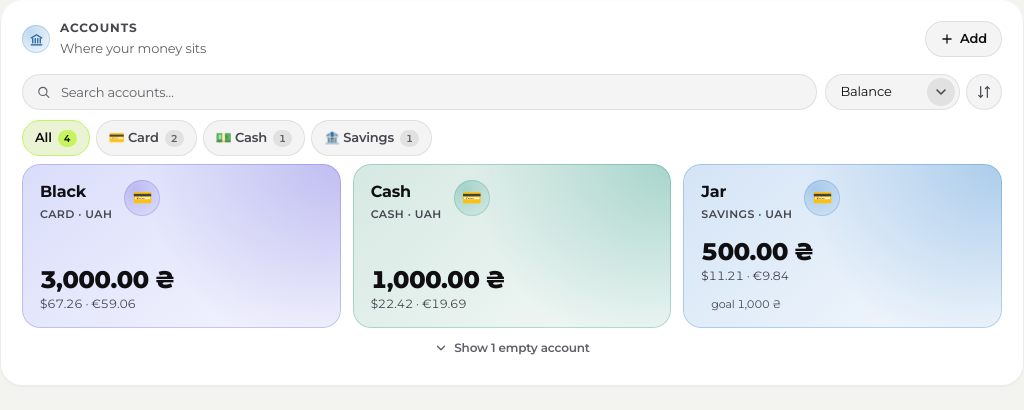
Scenario: AccountsCard › filters by kind and totals what is shown
The width and height of the screenshot is (1024, 410).
Step 1. Click the radio button labelled "💵 Cash 1" → (254, 138), box [203, 120, 305, 156]
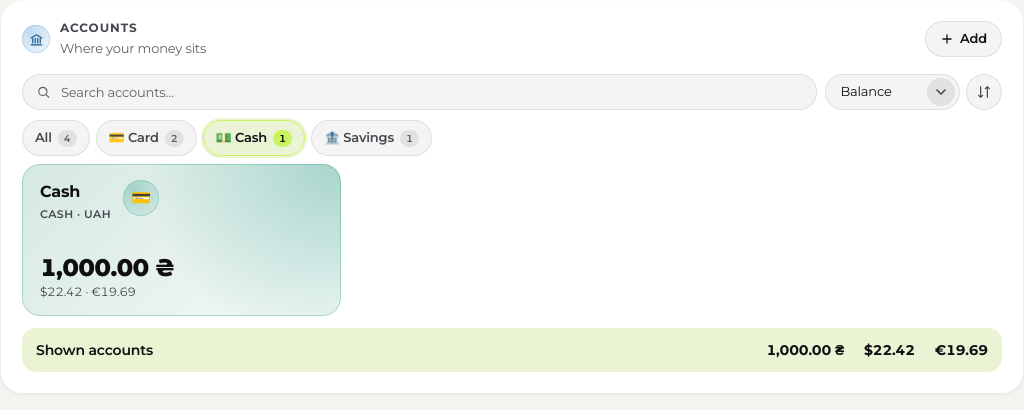
Expected: the text "Shown accounts" is shown, [36, 340, 153, 360]
